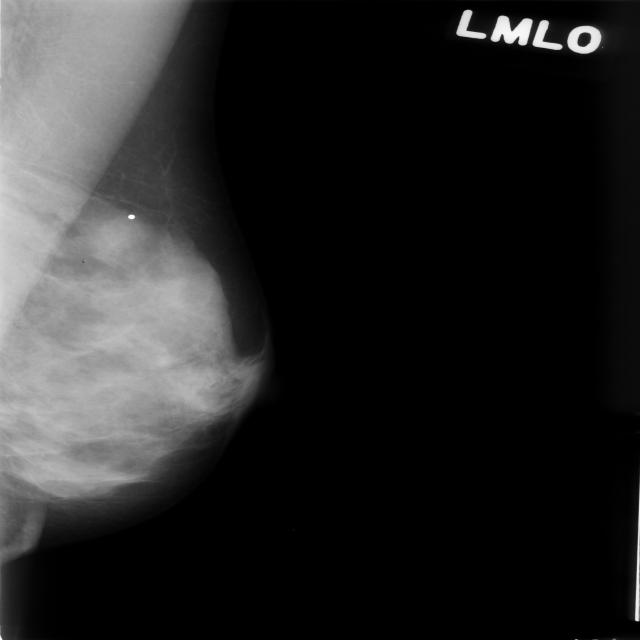normal: (0, 0, 274, 558)
